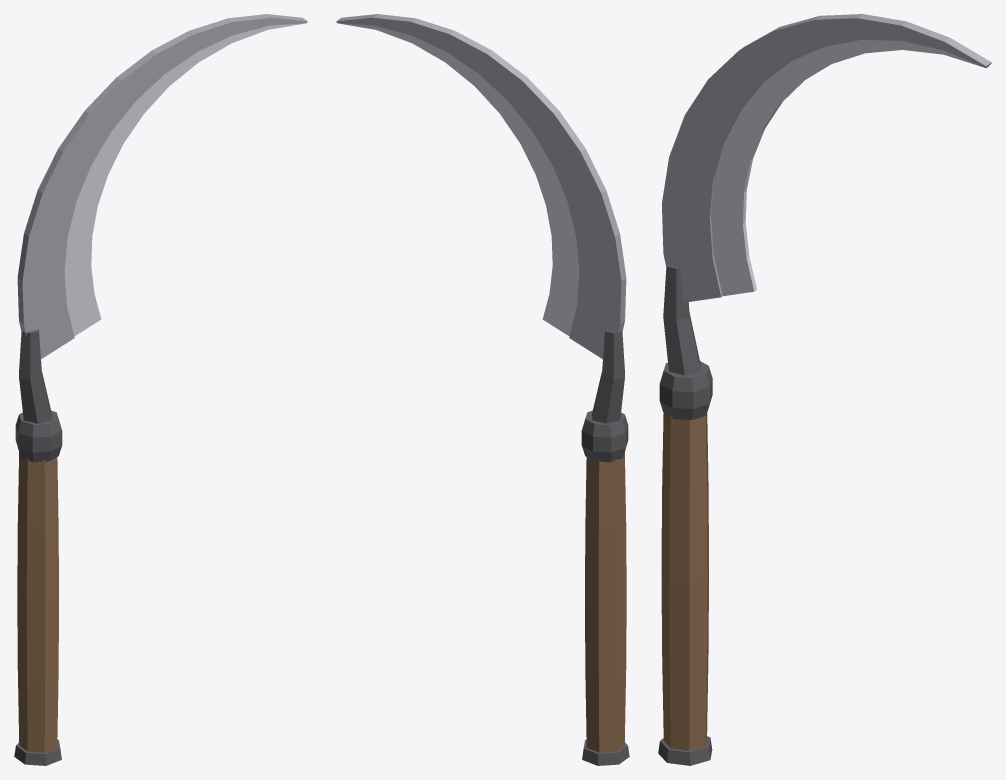
Rendered from sickle.glb.
3 renders of one model, left to right at view 1: azimuth 30°, elevation 25°; view 2: azimuth 150°, elevation 25°; view 3: azimuth 330°, elevation 25°, orthographic. The views are drawn at different scales.
Parts seen in each view (by area): view 1: sickle; view 2: sickle; view 3: sickle.
Boxes of the visible parts, box(x1,y1,x2,y2) form: sickle: box(14, 14, 307, 765); sickle: box(336, 14, 629, 765); sickle: box(658, 14, 991, 765).
Bounding box in the file's own units: 0.4029 × 0.934 × 0.0586.
